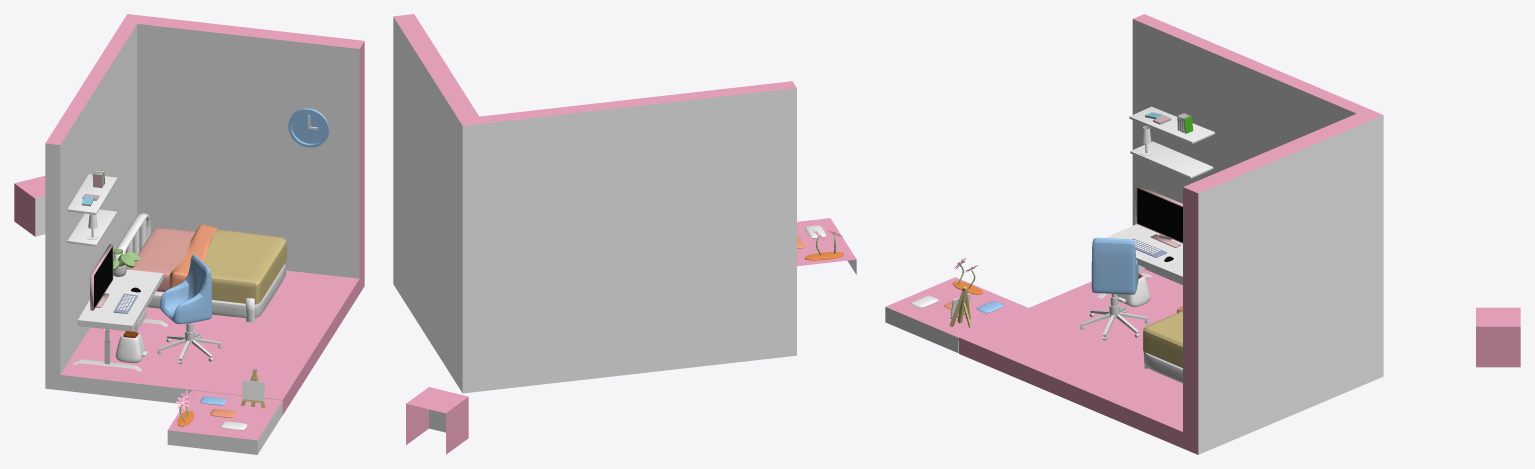
Rendered from room1.glb.
The picture shows the model from 3 angles, left to right: view 1: azimuth 30°, elevation 25°; view 2: azimuth 150°, elevation 25°; view 3: azimuth 270°, elevation 25°; orthographic projection. The views are drawn at different scales.
Parts seen in each view (by area): view 1: Room, Bed bottom3, Dupe_floor, Table, Chair top, Bed bottom2, Cube small, Clock face, Bed bottom1, Bed foot, Computer, Desk2 (+5 smaller); view 2: Room, Cube small, Dupe_floor; view 3: Room, Dupe_floor, Cube small, Chair top, Computer, Table, Bed bottom3, Desk1, Desk2, Chair bottom.
Boxes of the visible parts, x1,y1,x2,y2 form: Room: [45, 14, 364, 414]; Bed bottom3: [169, 224, 286, 304]; Dupe_floor: [167, 390, 282, 454]; Table: [72, 269, 168, 371]; Chair top: [160, 254, 211, 324]; Bed bottom2: [129, 228, 195, 291]; Cube small: [14, 176, 45, 236]; Clock face: [288, 108, 329, 147]; Bed bottom1: [147, 264, 285, 317]; Bed foot: [113, 213, 255, 322]; Computer: [90, 244, 113, 310]; Desk2: [67, 174, 117, 214]; Room: [393, 14, 796, 393]; Cube small: [406, 387, 468, 454]; Dupe_floor: [797, 218, 856, 274]; Room: [959, 14, 1383, 454]; Dupe_floor: [885, 277, 1027, 353]; Cube small: [1476, 307, 1520, 367]; Chair top: [1091, 237, 1138, 294]; Computer: [1135, 185, 1182, 247]; Table: [1097, 224, 1182, 298]; Bed bottom3: [1143, 306, 1182, 367]; Desk1: [1130, 141, 1213, 178]; Desk2: [1129, 106, 1214, 143]; Chair bottom: [1080, 293, 1148, 340].
Size of the model in its own units: 18.94 by 12.88 by 28.35.
